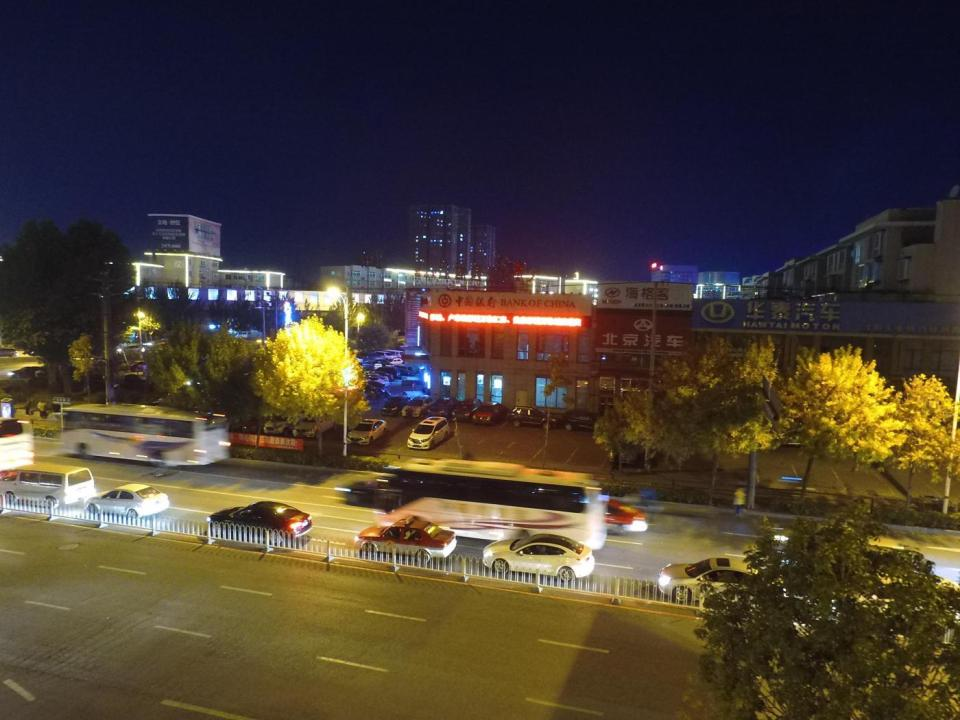bus: (381, 471, 608, 559), (60, 396, 234, 471)
car: (482, 528, 602, 590), (658, 554, 783, 605), (354, 515, 465, 566), (203, 501, 312, 549), (576, 494, 652, 538), (84, 481, 169, 520), (340, 472, 424, 507), (506, 401, 560, 430), (408, 416, 450, 451), (346, 413, 388, 443), (292, 410, 336, 438), (559, 405, 603, 432), (610, 435, 643, 466), (262, 412, 292, 440), (475, 397, 504, 425), (452, 396, 482, 422), (430, 394, 458, 419), (402, 394, 432, 417), (382, 392, 410, 416), (353, 381, 390, 395), (6, 365, 45, 378), (242, 413, 263, 436), (224, 410, 243, 434), (356, 373, 393, 385), (115, 343, 148, 356), (366, 369, 395, 382), (125, 360, 156, 372), (362, 377, 390, 390), (158, 335, 183, 348), (390, 366, 415, 379), (143, 338, 165, 352), (342, 353, 364, 366), (123, 331, 143, 344), (376, 356, 396, 369), (362, 361, 383, 372), (372, 349, 394, 359), (387, 358, 407, 366)
van: (0, 464, 96, 520), (371, 366, 401, 380), (360, 349, 385, 363), (385, 346, 406, 361), (394, 363, 418, 376), (0, 346, 20, 360)
